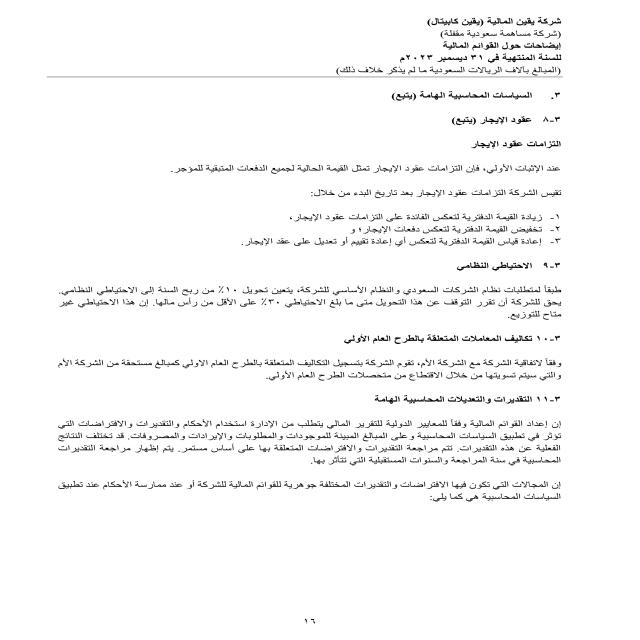notes: (440, 41, 562, 51)
text: (42, 82, 577, 511)
